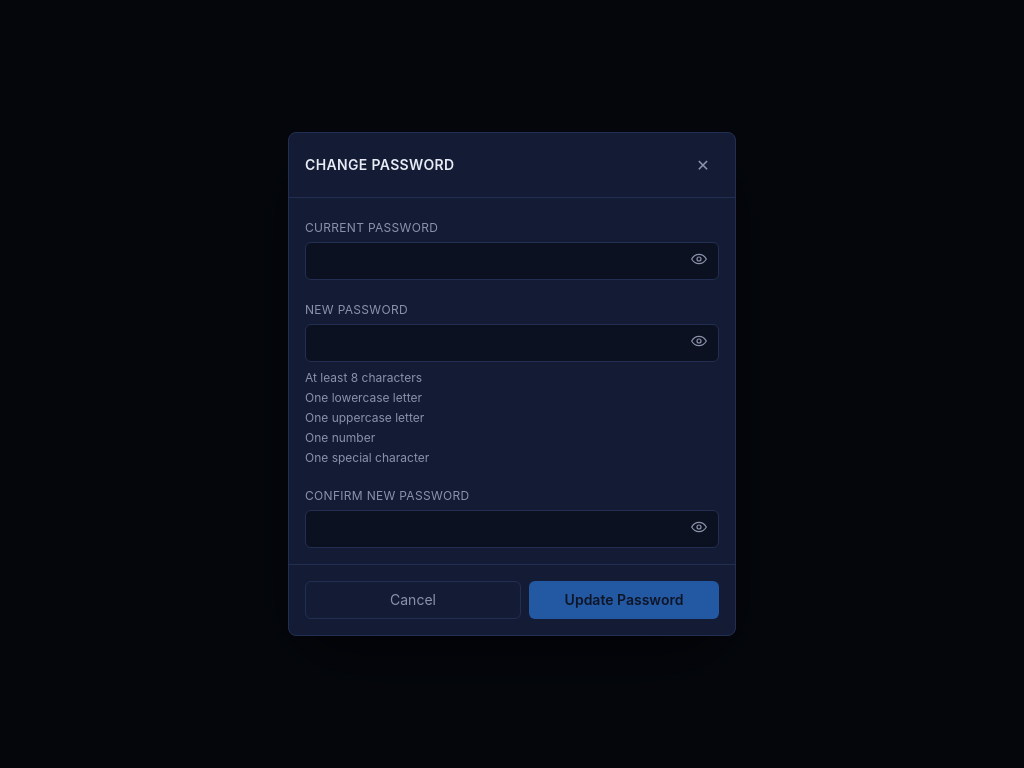
Test: ChangePasswordModal › shows a loading state while the request is in flight, then the success message and cleared fields
This screenshot has width=1024, height=768.
Type "OldPass!xK9pQ2v3" into the password field labelled "Current Password" at [512, 261], box left=305, top=242, right=719, bottom=280
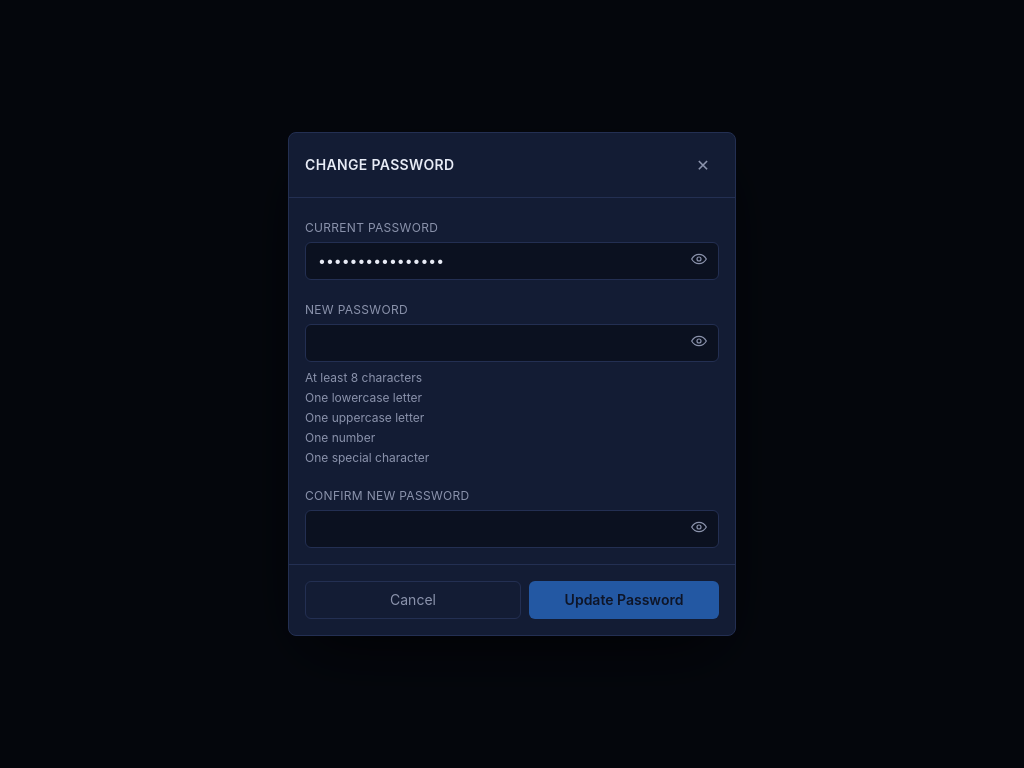
Type "Str0ngPass!xK9pQ2" into the password field labelled "New Password" at [512, 343], box left=305, top=324, right=719, bottom=362
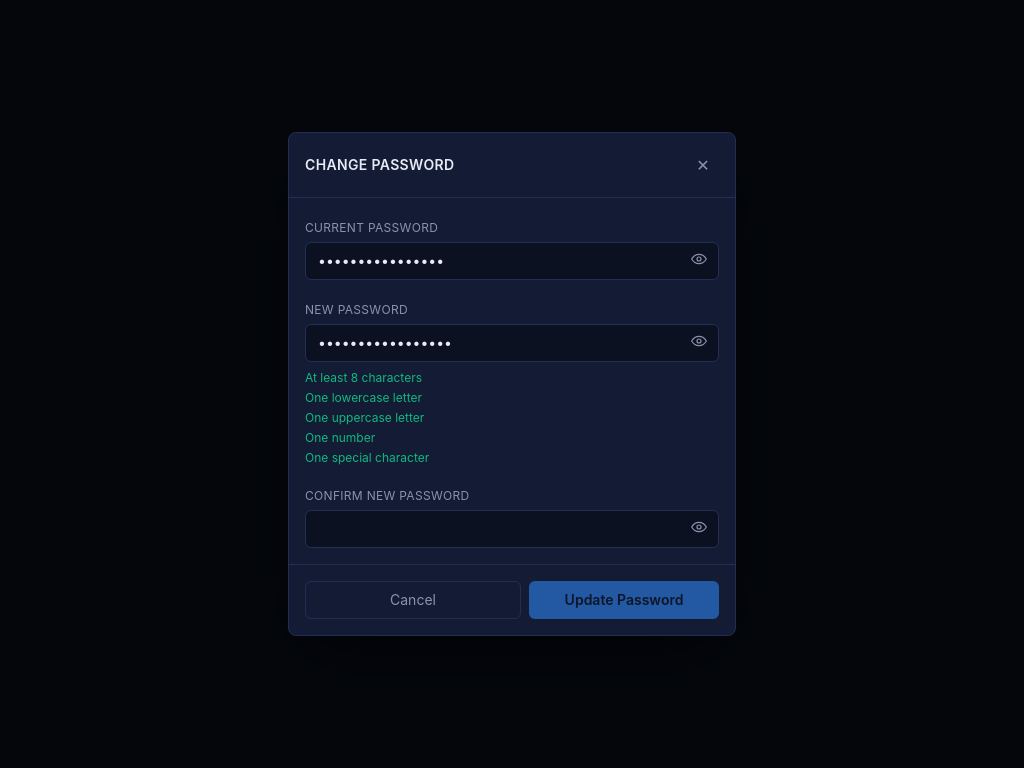
Type "Str0ngPass!xK9pQ2" into the password field labelled "Confirm New Password" at [512, 529], box left=305, top=510, right=719, bottom=548
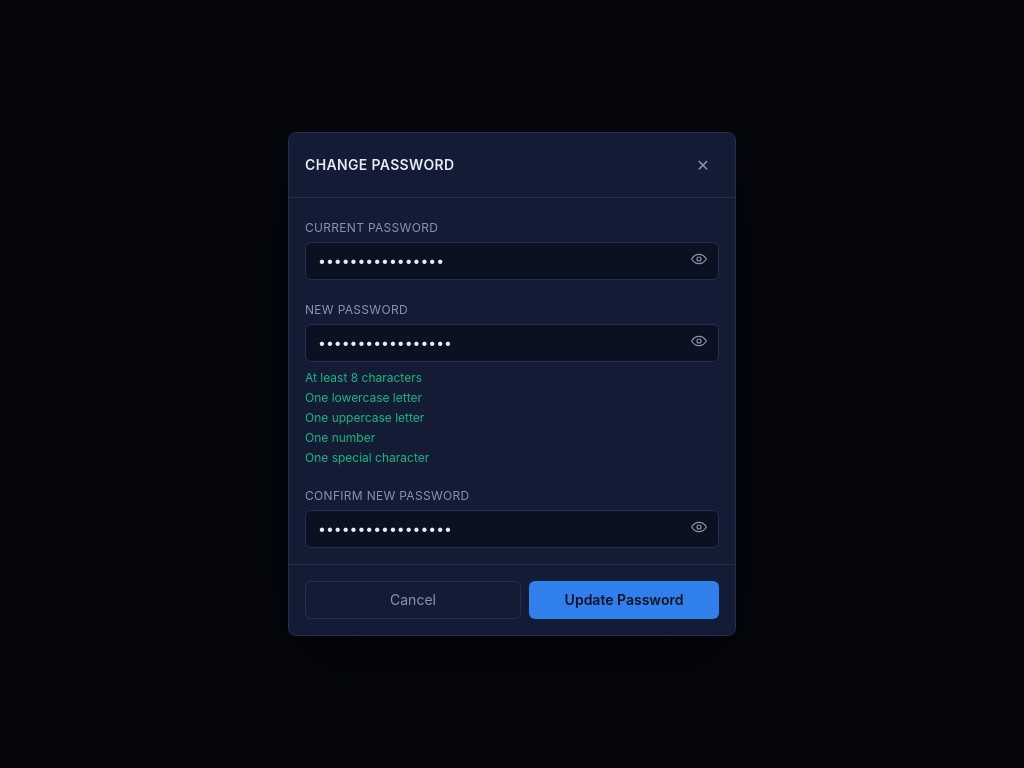
Click the button "Update Password" at [624, 600], box left=529, top=581, right=719, bottom=619
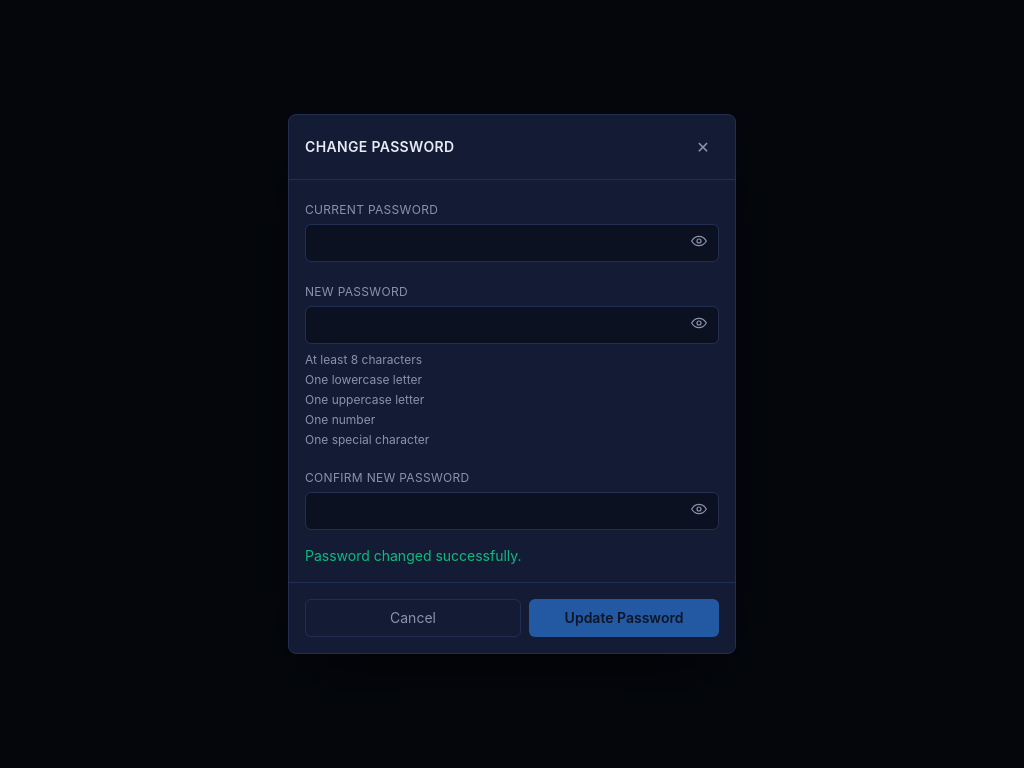
Expected: the button "Changing…" is disabled, left=529, top=599, right=719, bottom=637
Expected: the text "Password changed successfully." is shown, left=305, top=547, right=522, bottom=564
Expected: the password field labelled "Current Password" is empty, left=305, top=224, right=719, bottom=262
